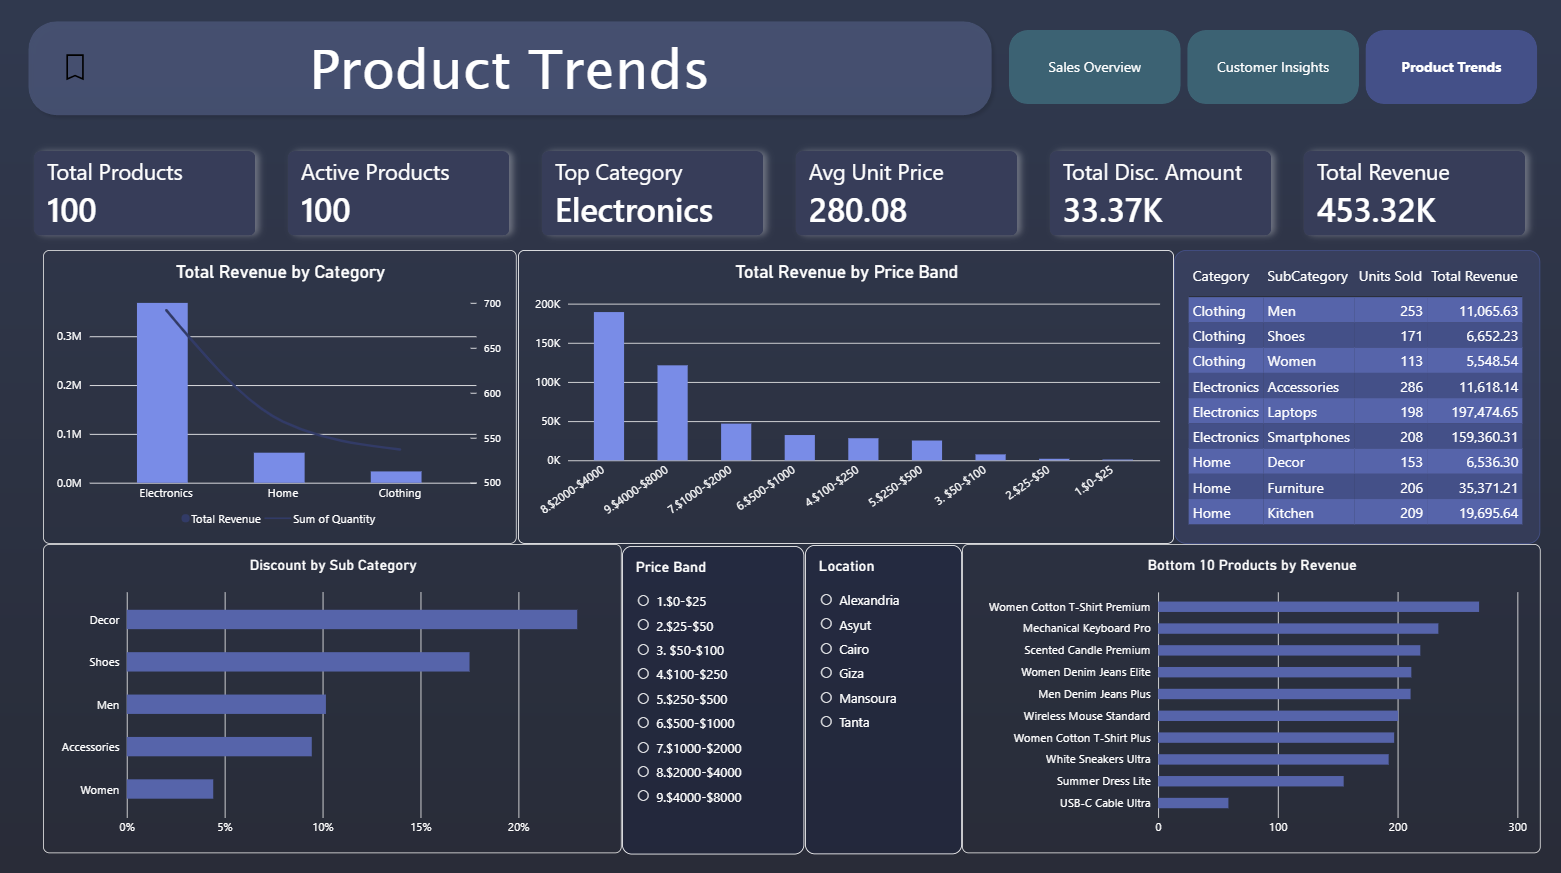

Layout of this report page (visuals, bound fields, positions):
{"tool":"powerbi","page":{"name":"Product Trends","canvas":[1920,1080],"ordinal":2},"visuals":[{"type":"shape","box":[26.7,16.7,1201.7,133.3],"z":0},{"type":"cardVisual","fields":{"Data":["Products.Total Products","Products.Active Products","Products.Top Category","Products.Avg Unit Price","Products.Total Discount Amount","Sales.Total Revenue"]},"box":[26.7,170,1866.7,136.7],"z":1000},{"type":"pageNavigator","box":[1241.4,37.1,651.7,91.7],"z":2000},{"type":"actionButton","box":[54.3,42.9,78.6,80],"z":3000},{"type":"tableEx","fields":{"Values":["Products.Category","Products.SubCategory","Sales.Units Sold","Sales.Total Revenue"]},"box":[1443.9,306.6,450,361],"z":4000},{"type":"barChart","title":"Bottom 10 Products by Revenue","fields":{"Category":["Products.ProductName"],"Y":["Sales.Total Revenue"]},"box":[1182.9,668.6,711.4,380],"z":5000},{"type":"clusteredColumnChart","fields":{"Category":["Payments.Price Band"],"Y":["Sales.Total Revenue"]},"box":[637.1,307.1,805.7,361.4],"z":6000},{"type":"barChart","title":"Discount by Sub Category","fields":{"Category":["Products.SubCategory"],"Y":["Avg(Sales.Discount)"]},"box":[54.3,668.6,711.4,380],"z":7000},{"type":"lineClusteredColumnComboChart","title":"Total Revenue by Category","fields":{"Category":["Products.Category"],"Y":["Sales.Total Revenue"],"Y2":["Sum(Sales.Quantity)"]},"box":[54.3,307.1,582,361],"z":8000},{"type":"listSlicer","fields":{"Values":["Customers.Location"]},"box":[989.8,669.2,193.5,380.3],"z":9000},{"type":"listSlicer","fields":{"Values":["Payments.Price Band"]},"box":[765.9,670.5,223.9,379],"z":10000}]}

Visuals, with their boxes in screenshot pixels (x1, y1, x2, y2), scaled from the page's 1920x1080 canvas onto the 1561x873 screenshot:
shape: (left=22, top=13, right=999, bottom=121)
cardVisual - Products.Total Products x Products.Active Products: (left=22, top=137, right=1539, bottom=248)
pageNavigator: (left=1009, top=30, right=1539, bottom=104)
actionButton: (left=44, top=35, right=108, bottom=99)
tableEx - Products.Category x Products.SubCategory: (left=1174, top=248, right=1540, bottom=540)
"Bottom 10 Products by Revenue" barChart: (left=962, top=540, right=1540, bottom=848)
clusteredColumnChart - Payments.Price Band x Sales.Total Revenue: (left=518, top=248, right=1173, bottom=540)
"Discount by Sub Category" barChart: (left=44, top=540, right=623, bottom=848)
"Total Revenue by Category" lineClusteredColumnComboChart: (left=44, top=248, right=517, bottom=540)
listSlicer - Customers.Location: (left=805, top=541, right=962, bottom=848)
listSlicer - Payments.Price Band: (left=623, top=542, right=805, bottom=848)
